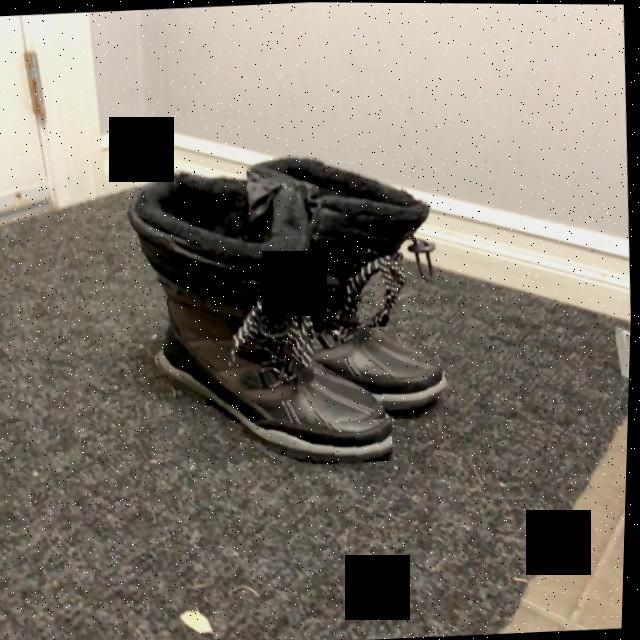shoe: (159, 296, 395, 464), (316, 327, 450, 418)
